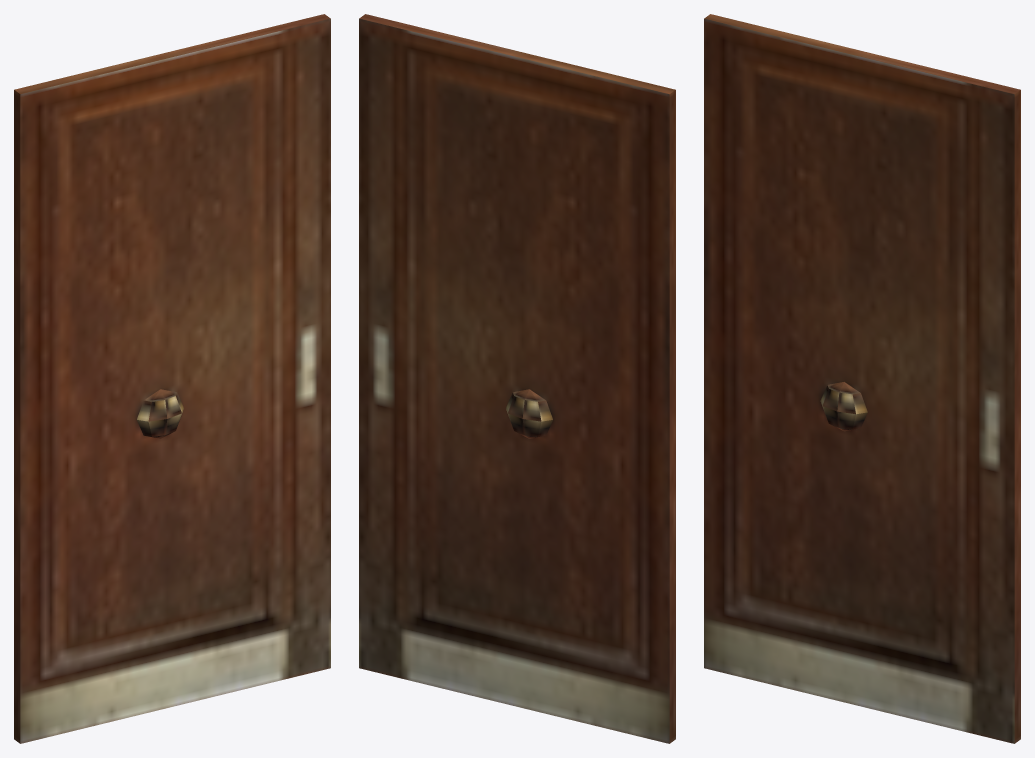
The model's file is DoorWooden03b.obj.
3 views of the same model, side by side, from view 1: azimuth 30°, elevation 25°; view 2: azimuth 150°, elevation 25°; view 3: azimuth 330°, elevation 25° (orthographic).
Visible parts, largest first — view 1: DoorWooden03b; view 2: DoorWooden03b; view 3: DoorWooden03b.
Boxes of the visible parts, x1,y1,x2,y2 form: DoorWooden03b: (14,14,330,743); DoorWooden03b: (359,14,675,743); DoorWooden03b: (704,14,1020,743).
Size of the model in its own units: 1.5 by 3 by 0.1672.
